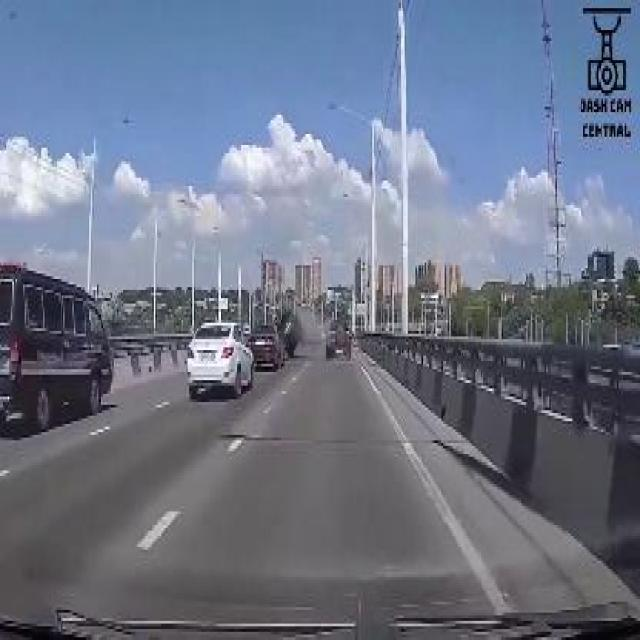accident: (276, 304, 312, 358)
